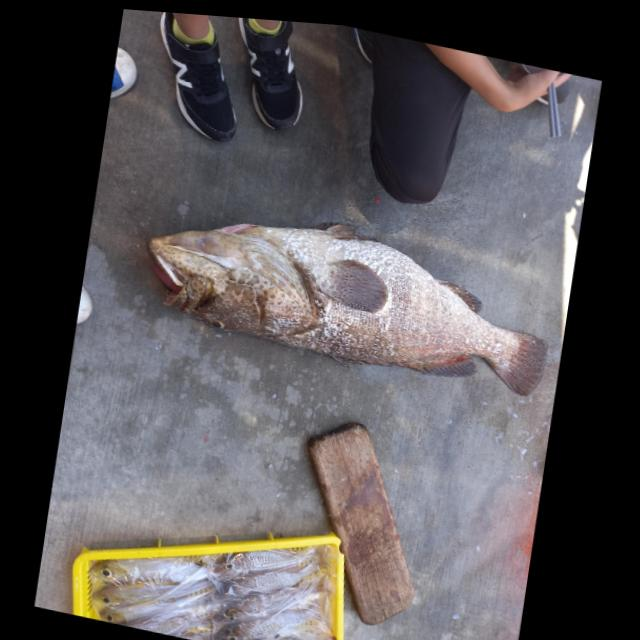Groupers: (136, 186, 562, 408)
